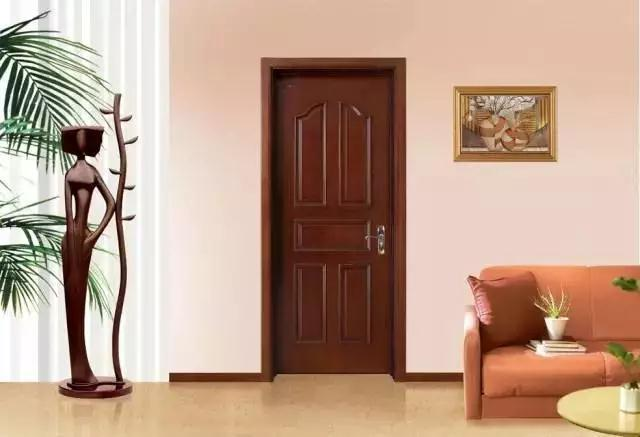door: (274, 72, 394, 374)
